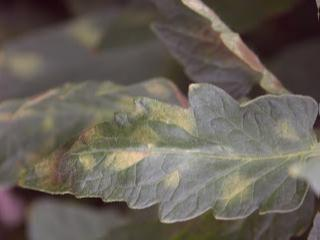Tomato mold leaf: (16, 74, 320, 226)
